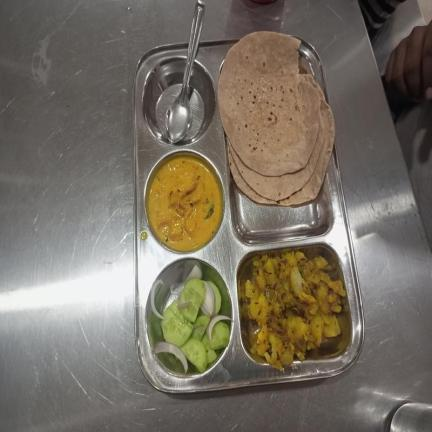Curry: (147, 156, 222, 250)
Plate: (134, 36, 365, 393)
Roti: (216, 31, 336, 209)
Salad: (150, 264, 236, 374)
Zeera Aalu: (244, 248, 346, 375)
